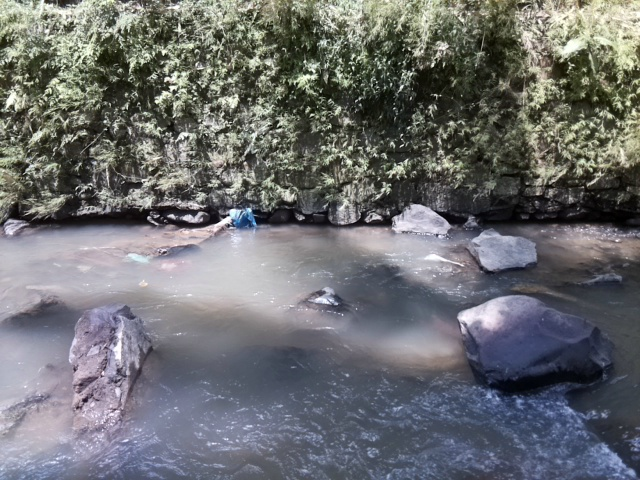Sampah_Plastik: (227, 206, 258, 231)
